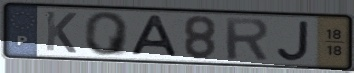8: (182, 14, 219, 61)
A: (126, 14, 181, 58)
J: (275, 19, 312, 63)
K: (44, 9, 79, 55)
Q: (82, 11, 132, 57)
R: (222, 16, 271, 62)
